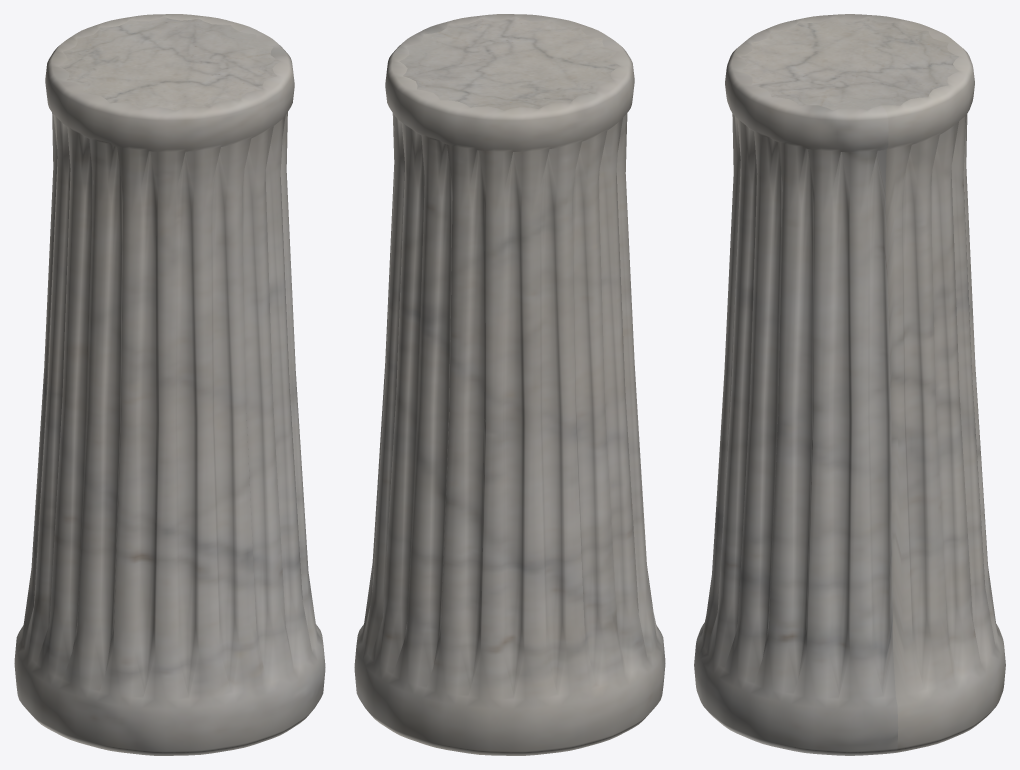
File: marblepillar.fbx
The picture shows the model from 3 angles, left to right: view 1: azimuth 30°, elevation 25°; view 2: azimuth 150°, elevation 25°; view 3: azimuth 270°, elevation 25°; orthographic projection.
Parts seen in each view (by area): view 1: pCylinder1; view 2: pCylinder1; view 3: pCylinder1.
Boxes of the visible parts, left/top/right/bottom form: pCylinder1: left=14, top=14, right=325, bottom=755; pCylinder1: left=354, top=14, right=665, bottom=755; pCylinder1: left=694, top=14, right=1005, bottom=755.
Bounding box in the file's own units: 1.8 × 4.02 × 1.8.
1 material, 1 textured.
